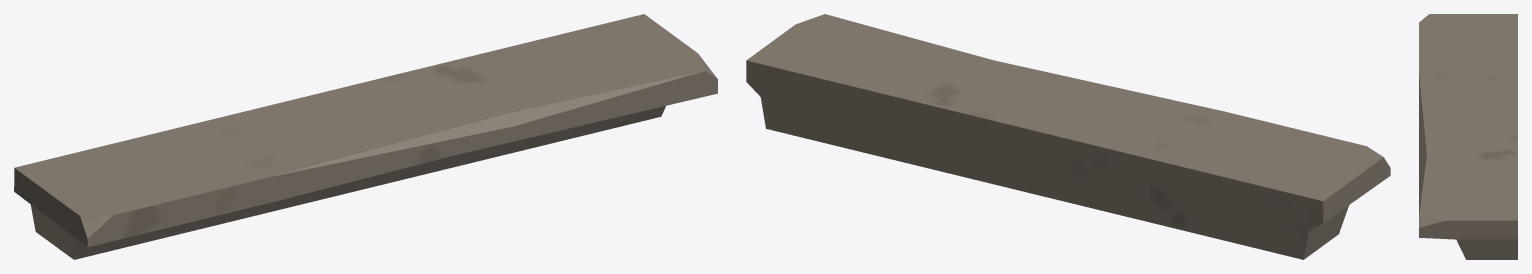
The model's file is forge_shelf.gltf.
The picture shows the model from 3 angles, left to right: view 1: azimuth 30°, elevation 25°; view 2: azimuth 150°, elevation 25°; view 3: azimuth 270°, elevation 25°; orthographic projection. The views are drawn at different scales.
Parts seen in each view (by area): view 1: forge_shelf; view 2: forge_shelf; view 3: forge_shelf.
Part boxes in pixels (x1,y1,x2,y2): forge_shelf: (14, 14, 717, 259); forge_shelf: (746, 14, 1390, 259); forge_shelf: (1419, 14, 1517, 259).
Size of the model in its own units: 1.56 by 0.1636 by 0.3145.
Materials: 1 (1 with a texture image).
